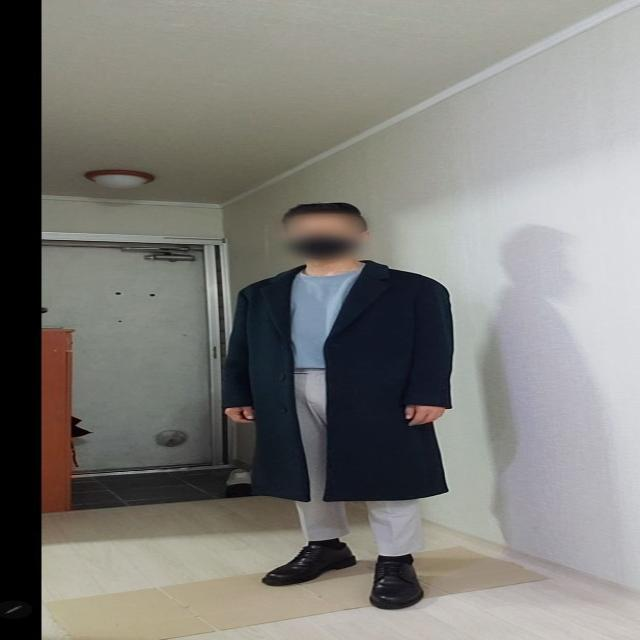coat: (220, 258, 456, 504)
slacks: (274, 366, 425, 557)
sweater: (286, 262, 380, 367)
